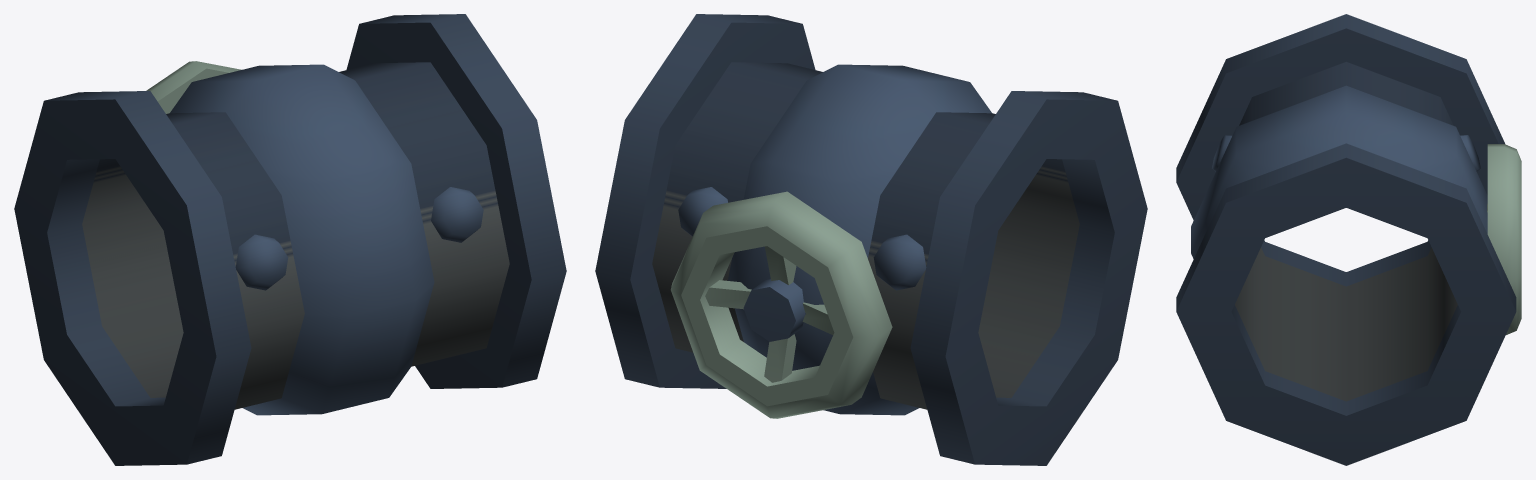
The model's file is factory-kit__pipe-large-valve.glb.
The picture shows the model from 3 angles, left to right: view 1: azimuth 30°, elevation 25°; view 2: azimuth 150°, elevation 25°; view 3: azimuth 270°, elevation 25°; orthographic projection. The views are drawn at different scales.
Visible parts, largest first — view 1: pipe-large-valve; view 2: pipe-large-valve; view 3: pipe-large-valve.
Part boxes in pixels (<box>): pipe-large-valve: <box>14,14,566,465</box>; pipe-large-valve: <box>595,14,1147,465</box>; pipe-large-valve: <box>1176,14,1521,465</box>.
Bounding box in the file's own units: 2 × 2 × 2.03.
1 material, 1 textured.
